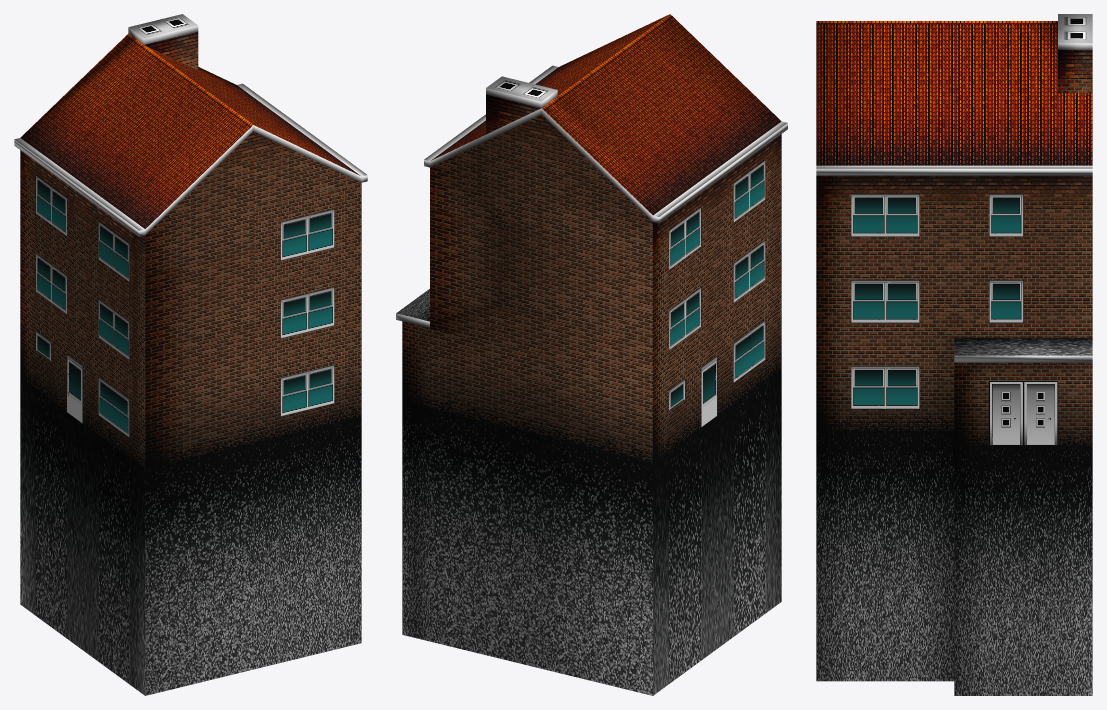
Rendered from maisonet_mod2_1a.fbx.
The picture shows the model from 3 angles, left to right: view 1: azimuth 30°, elevation 25°; view 2: azimuth 150°, elevation 25°; view 3: azimuth 270°, elevation 25°; orthographic projection. The views are drawn at different scales.
Parts seen in each view (by area): view 1: maisonet_mod2_1a; view 2: maisonet_mod2_1a; view 3: maisonet_mod2_1a.
Boxes of the visible parts, box(x1,y1,x2,y2) form: maisonet_mod2_1a: box(14, 14, 367, 695); maisonet_mod2_1a: box(396, 14, 787, 695); maisonet_mod2_1a: box(816, 14, 1092, 695).
Bounding box in the file's own units: 1062 × 2188 × 900.
